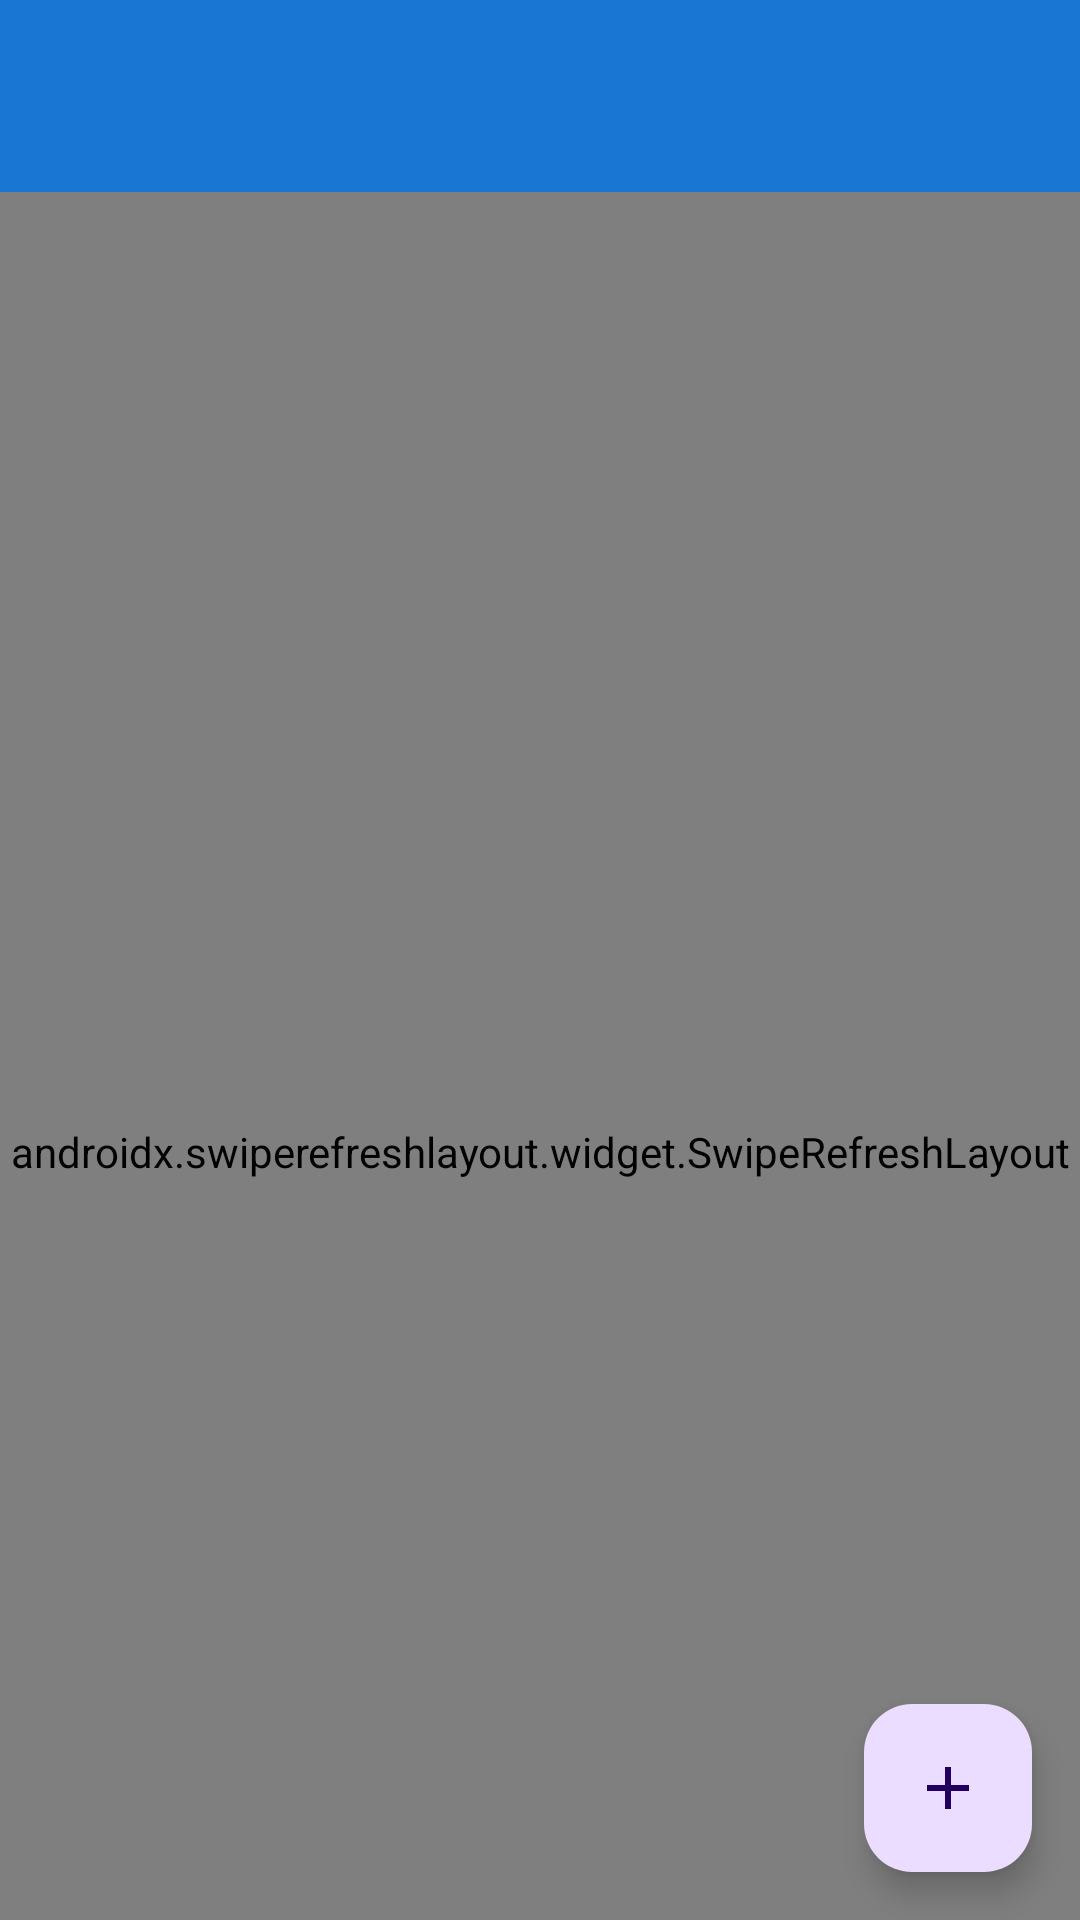

Named icons in this screenshot (1080*1920) and their bounding boxes, {"x1": x1, "y1": y1, "x2": x2, "y2": y2}:
Add Student: {"x1": 864, "y1": 1704, "x2": 1032, "y2": 1872}
